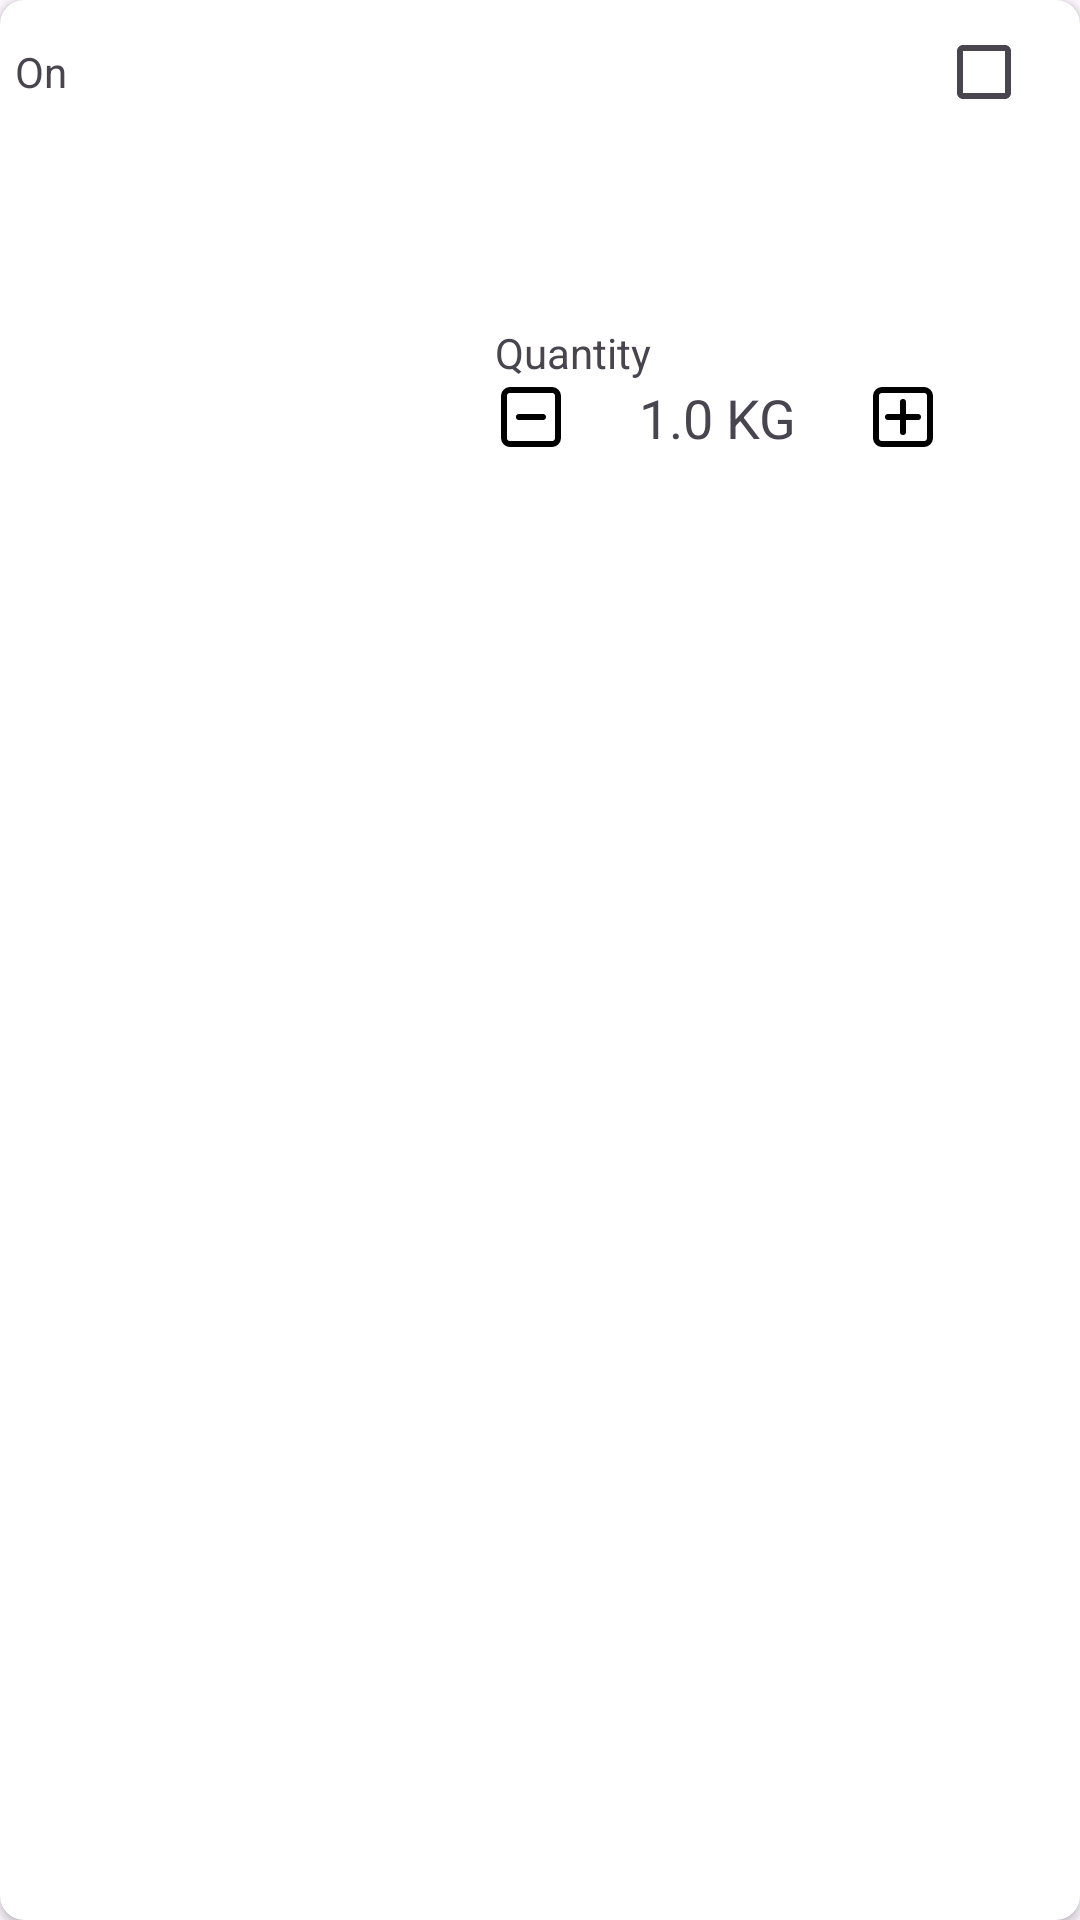

Icons on this 1080×1920 Android screen, each with its box as [left=x1, top=y1, right=x2, bottom=y2]:
minus: [left=501, top=387, right=561, bottom=447]
plus: [left=873, top=387, right=933, bottom=447]
